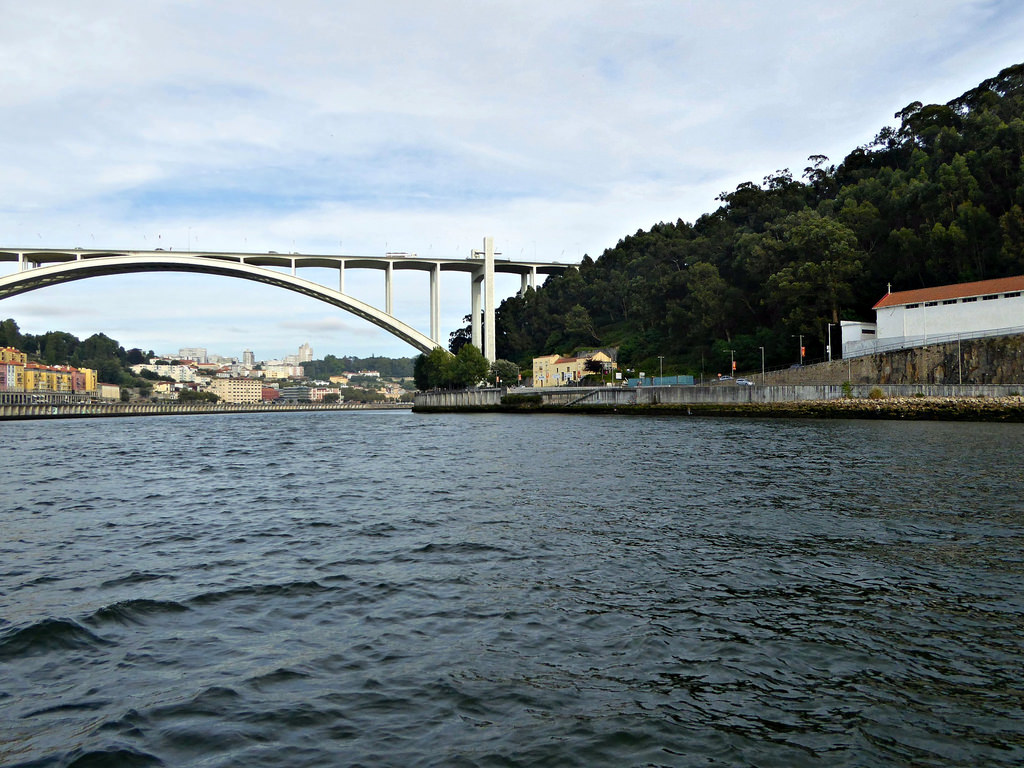arrabida: (0, 235, 588, 386)
